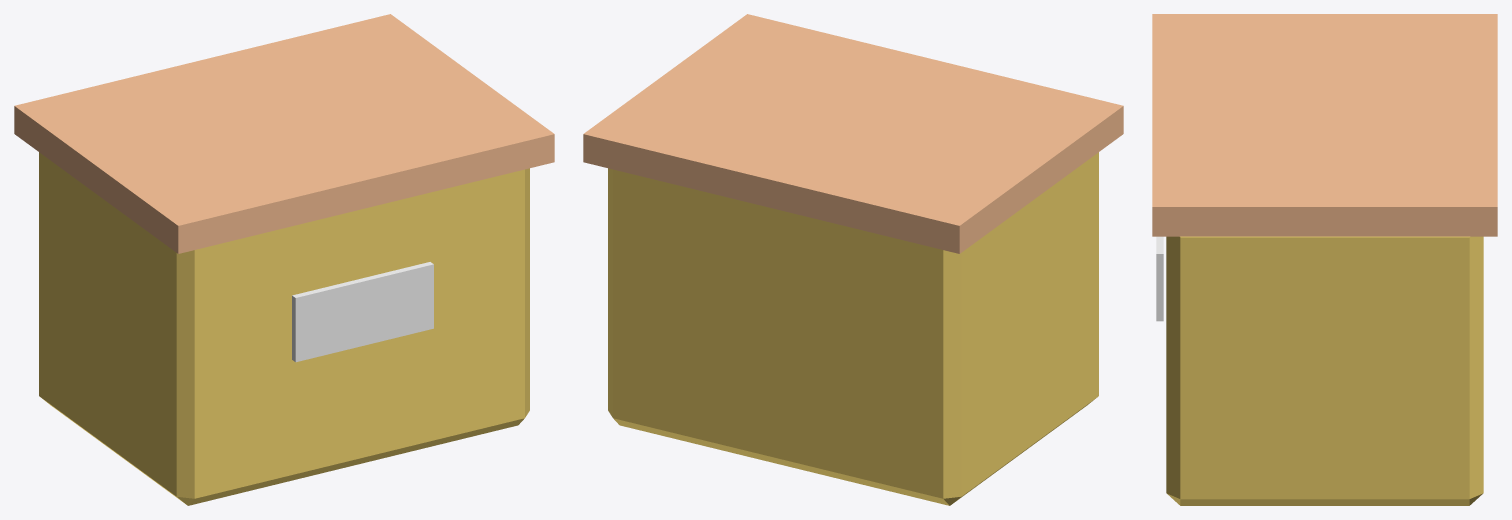
3 renders of one model, left to right at view 1: azimuth 30°, elevation 25°; view 2: azimuth 150°, elevation 25°; view 3: azimuth 270°, elevation 25°, orthographic. The views are drawn at different scales.
Parts seen in each view (by area): view 1: Box, Lid, Label; view 2: Box, Lid; view 3: Box, Lid, Label.
Part boxes in pixels (box(x1,y1,x2,y2)): Box: box(39, 152, 529, 505); Lid: box(14, 14, 554, 253); Label: box(292, 262, 433, 362); Box: box(608, 152, 1098, 505); Lid: box(583, 14, 1123, 253); Box: box(1166, 236, 1483, 505); Lid: box(1152, 14, 1497, 236); Label: box(1156, 236, 1163, 321).
Size of the model in its own units: 0.49 by 0.3675 by 0.37.
1 material, 1 textured.
